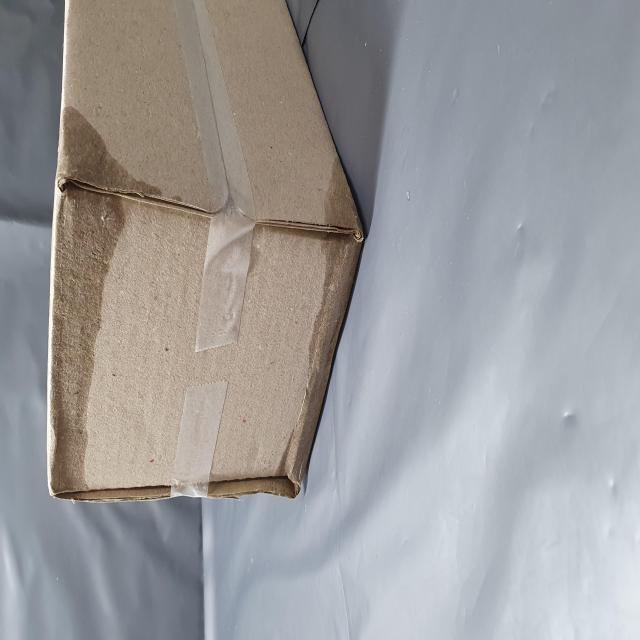wet: (78, 79, 302, 283)
